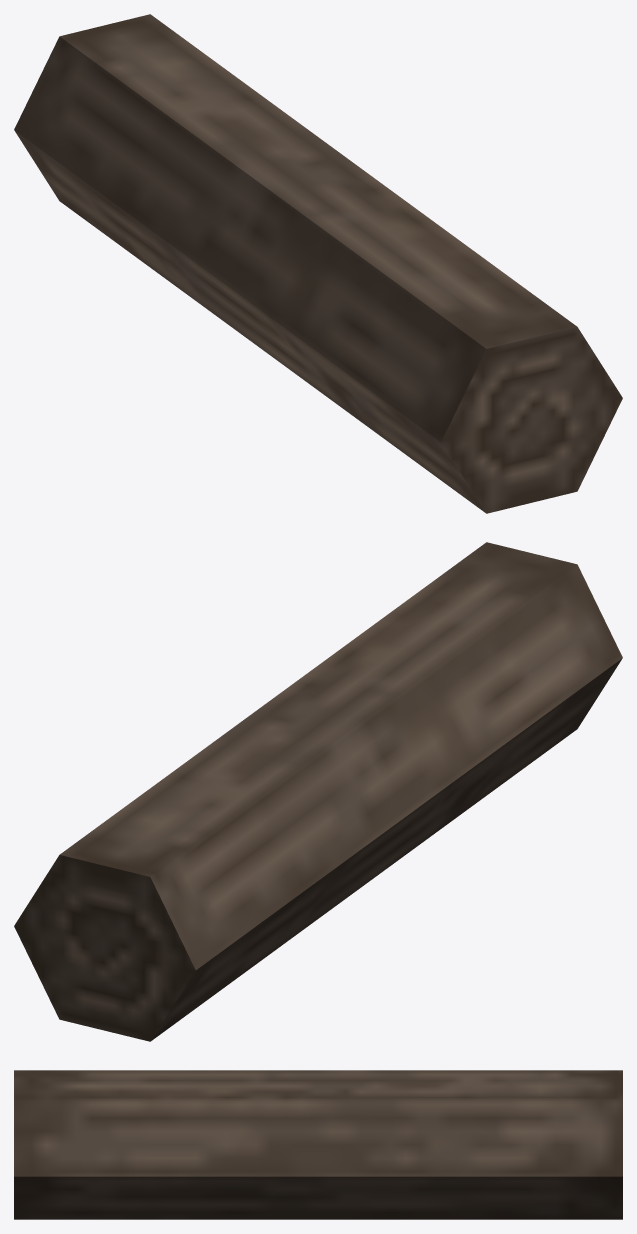
The model's file is WoodLog.fbx.
The picture shows the model from 3 angles, top to bottom: view 1: azimuth 30°, elevation 25°; view 2: azimuth 150°, elevation 25°; view 3: azimuth 270°, elevation 25°; orthographic projection. The views are drawn at different scales.
Parts seen in each view (by area): view 1: pCylinder20.009; view 2: pCylinder20.009; view 3: pCylinder20.009.
Boxes of the visible parts, x1,y1,x2,y2 form: pCylinder20.009: (14, 14, 622, 513); pCylinder20.009: (14, 542, 622, 1041); pCylinder20.009: (14, 1070, 622, 1219).
Size of the model in its own units: 131 by 114 by 533.
